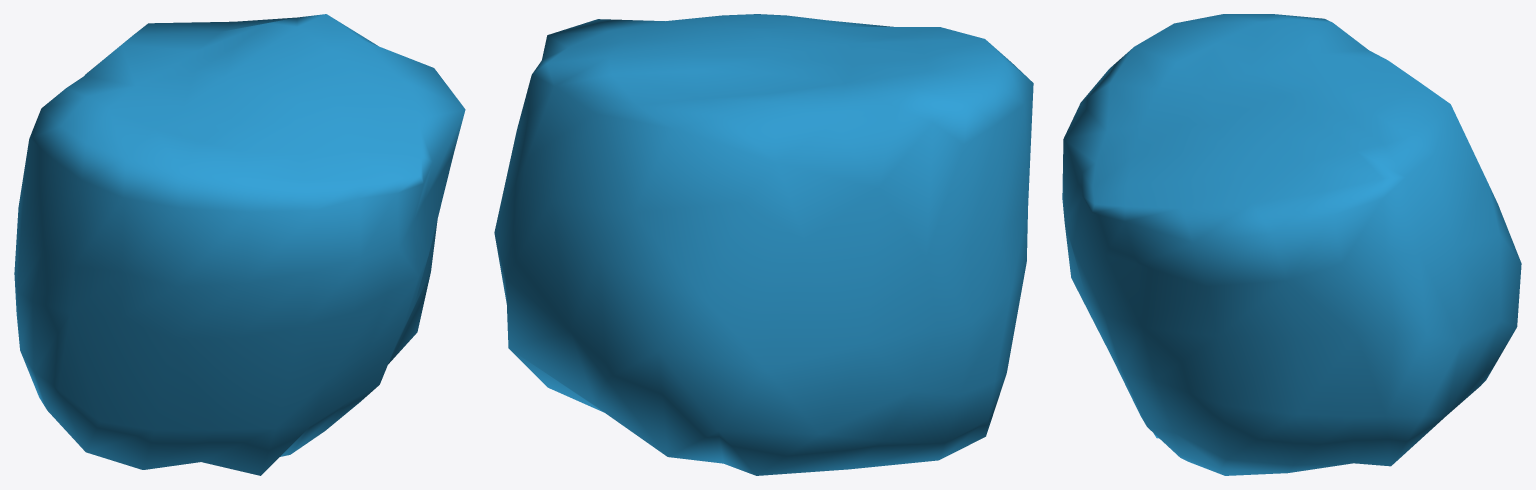
The model's file is Rock_S_02_Lod0.fbx.
The picture shows the model from 3 angles, left to right: view 1: azimuth 30°, elevation 25°; view 2: azimuth 150°, elevation 25°; view 3: azimuth 270°, elevation 25°; orthographic projection. The views are drawn at different scales.
Visible parts, largest first — view 1: Rock_S_02_Lod0; view 2: Rock_S_02_Lod0; view 3: Rock_S_02_Lod0.
Boxes of the visible parts, box(x1,y1,x2,y2) form: Rock_S_02_Lod0: box(14, 14, 465, 475); Rock_S_02_Lod0: box(494, 14, 1033, 475); Rock_S_02_Lod0: box(1062, 14, 1521, 475).
Bounding box in the file's own units: 530 × 445 × 506.
